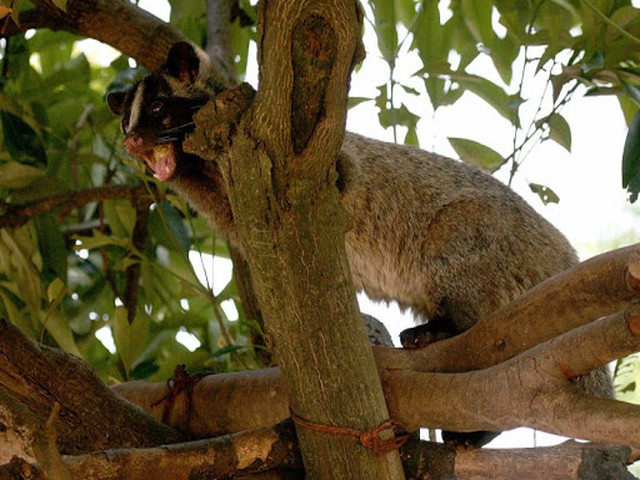civet: (340, 126, 582, 312), (101, 37, 228, 236)
